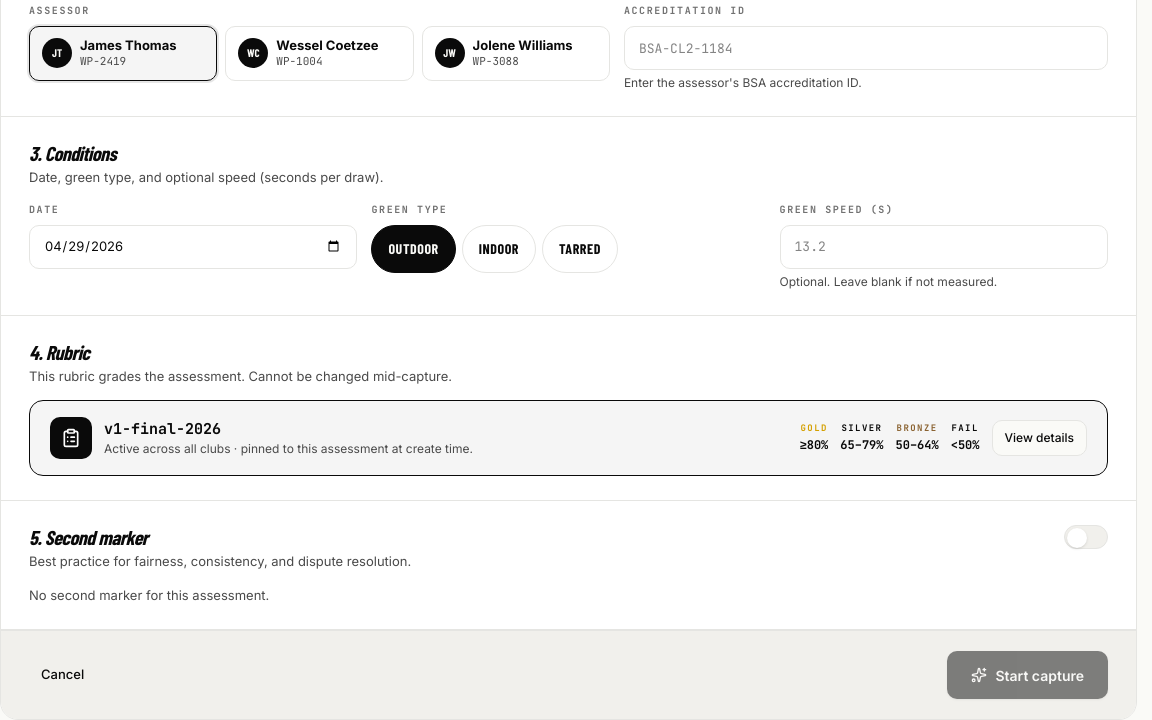
Test: <NewAssessmentForm /> — second marker toggle › clicking the toggle reveals the marker fields
The width and height of the screenshot is (1152, 720).
(page scrolled)
Step 1. Click the switch → point(1086, 537), box [1064,525,1108,549]
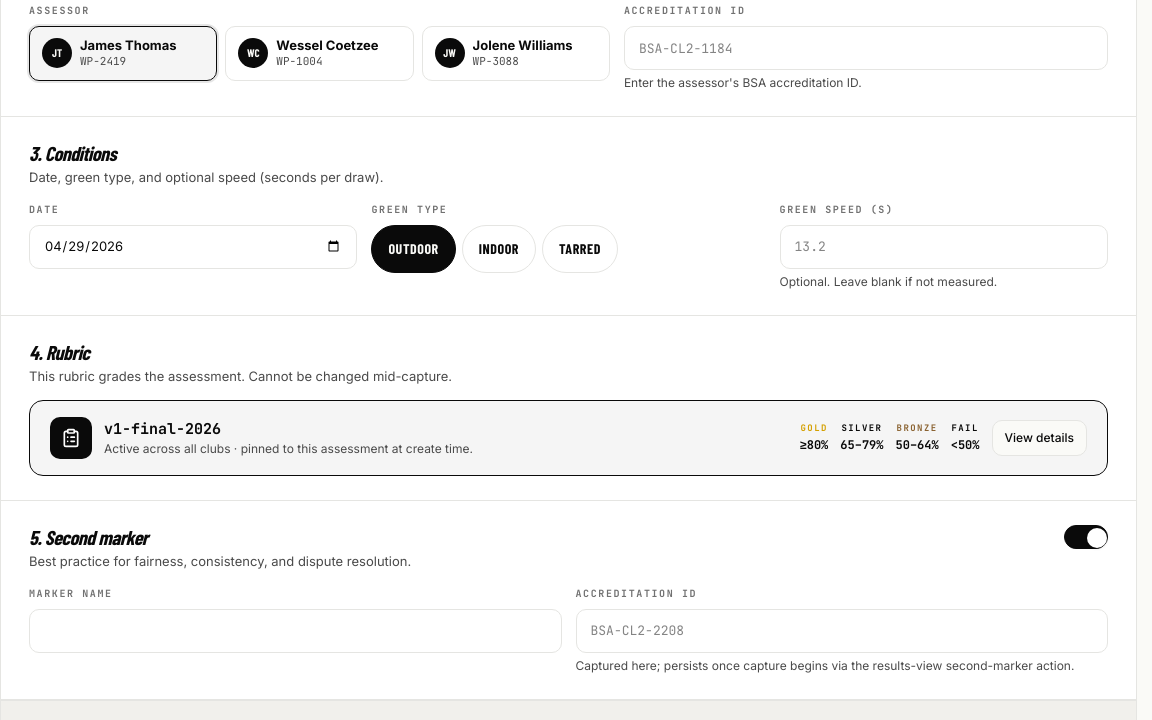
Expected: the field labelled "Marker name" is shown, [29,608,562,652]
Expected: the 2nd field labelled "Accreditation ID" is shown, [576,608,1108,652]
